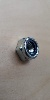Nut: (12, 34, 42, 70)
